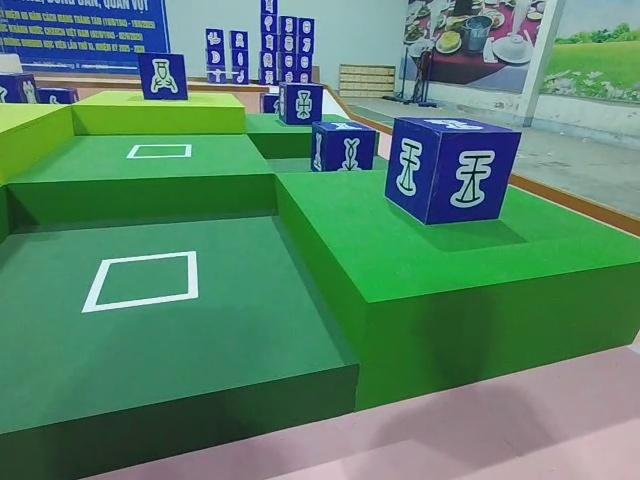R2 Real Blue: (389, 117, 523, 229), (311, 123, 380, 176), (138, 51, 186, 100), (277, 84, 322, 128), (0, 74, 35, 106)
